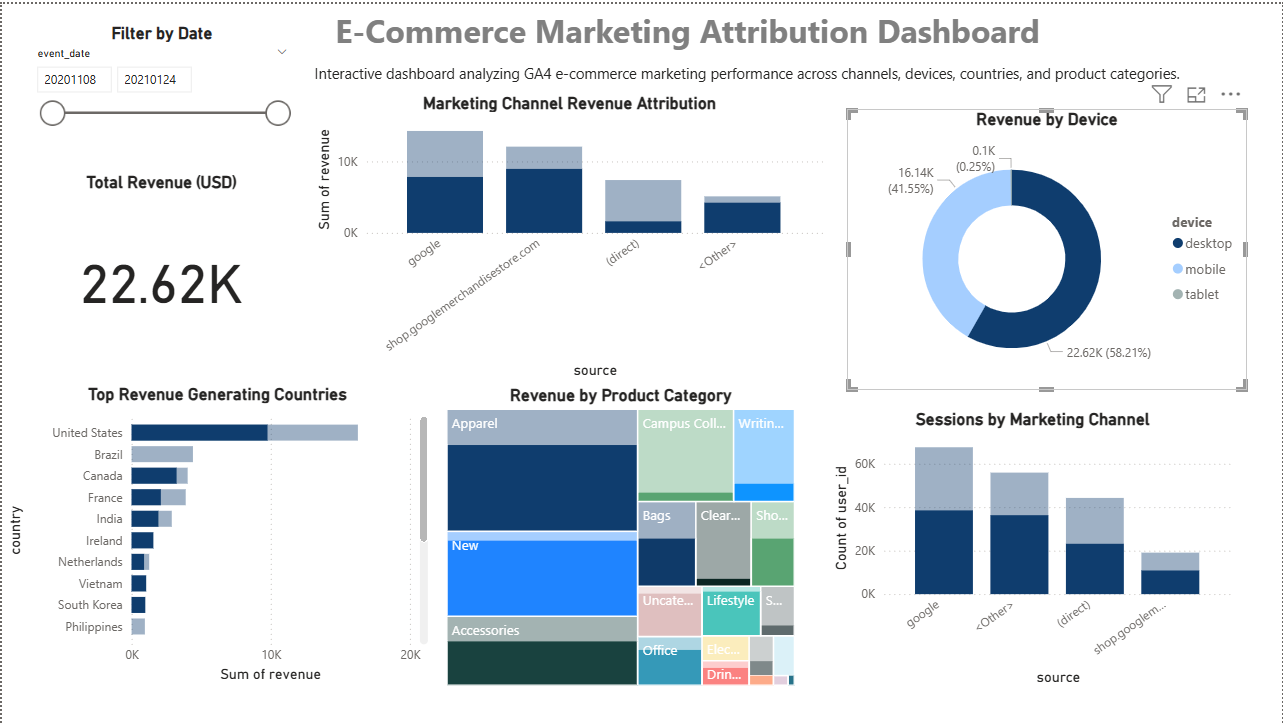

The page's visual inventory and layout, read from the dashboard file:
{"tool":"powerbi","page":{"name":"Page 1","canvas":[1280,720],"ordinal":0},"visuals":[{"type":"textbox","box":[215.6,0,941.1,53.3],"z":0},{"type":"columnChart","title":"Marketing Channel Revenue Attribution","fields":{"Y":["Sum(ga4_ecommerce_data.revenue)"],"Category":["ga4_ecommerce_data.source"]},"box":[308.9,88.9,517.8,291.1],"z":1000},{"type":"textbox","box":[0,140,300,165],"z":2000},{"type":"donutChart","title":"Revenue by Device","fields":{"Category":["ga4_ecommerce_data.device"],"Y":["Sum(ga4_ecommerce_data.revenue)"]},"box":[844.4,105.6,400,281.1],"z":3000},{"type":"clusteredBarChart","title":"Top Revenue Generating Countries","fields":{"Category":["ga4_ecommerce_data.country"],"Y":["Sum(ga4_ecommerce_data.revenue)"]},"box":[0,380,431.1,303.3],"z":5000},{"type":"treemap","title":"Revenue by Product Category","fields":{"Group":["ga4_ecommerce_data.product_category"],"Values":["Sum(ga4_ecommerce_data.revenue)"]},"box":[439.7,380.8,357.7,305.1],"z":6000},{"type":"card","title":"Total Revenue (USD)","fields":{"Values":["Sum(ga4_ecommerce_data.revenue)"]},"box":[31.2,167.5,256.2,192.5],"z":8500},{"type":"textbox","box":[307.8,53.3,881.1,35.6],"z":8501},{"type":"clusteredColumnChart","title":"Sessions by Marketing Channel","fields":{"Category":["ga4_ecommerce_data.source"],"Y":["CountNonNull(ga4_ecommerce_data.user_id)"]},"box":[826.7,405.6,408.9,281.1],"z":8502},{"type":"slicer","title":"Filter by Date","fields":{"Values":["ga4_ecommerce_data.event_date"]},"box":[22.5,18.8,275,105],"z":8503}]}

Visuals, with their boxes in screenshot pixels (x1, y1, x2, y2), scaled from the page's 1280x720 canvas onto the 1283x724 screenshot:
textbox: [216,0,1159,54]
"Marketing Channel Revenue Attribution" columnChart: [310,89,829,382]
textbox: [0,141,301,307]
"Revenue by Device" donutChart: [846,106,1247,389]
"Top Revenue Generating Countries" clusteredBarChart: [0,382,432,687]
"Revenue by Product Category" treemap: [441,383,799,690]
"Total Revenue (USD)" card: [31,168,288,362]
textbox: [309,54,1192,89]
"Sessions by Marketing Channel" clusteredColumnChart: [829,408,1238,691]
"Filter by Date" slicer: [23,19,298,124]
